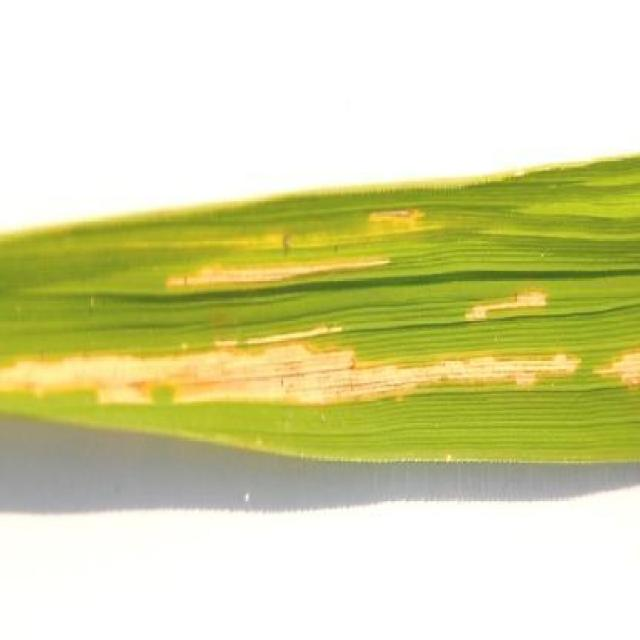Brown_Spot: (158, 166, 572, 351), (1, 313, 640, 424)
